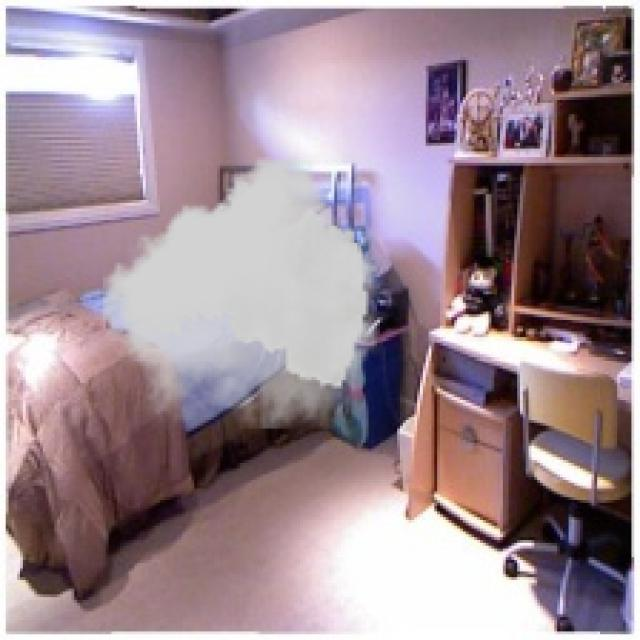Smoke: (103, 157, 380, 429)
